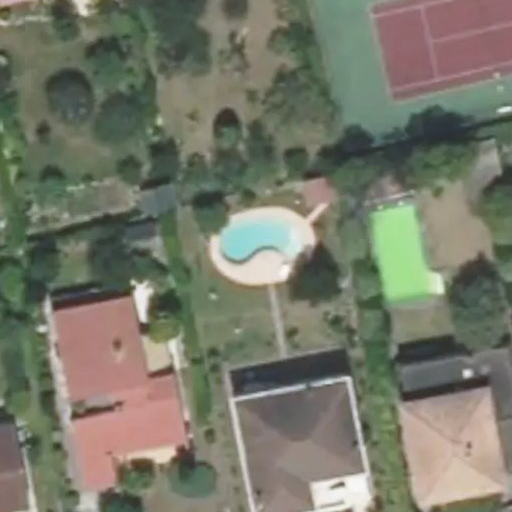pool: (215, 231, 296, 252)
